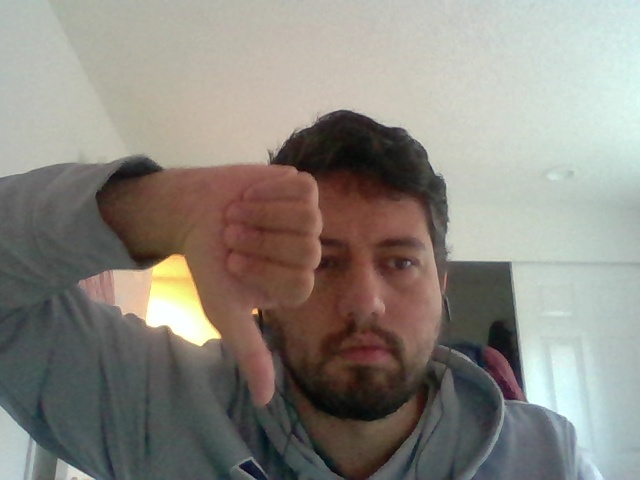ThumbsDown: (183, 162, 327, 413)
